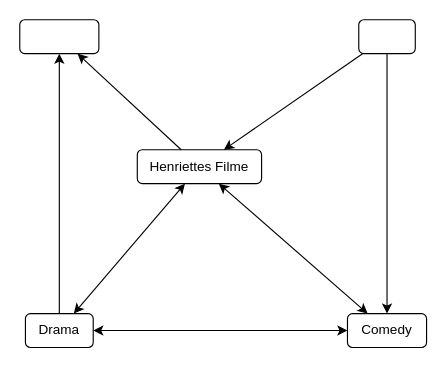
The diagram is 446 pixels wide and 367 high, and some of its shapes have lost their labels. The centre of each missing label's shape, as x and y in pixels:
Krimi: pixel 386 36
Romantik: pixel 59 36
